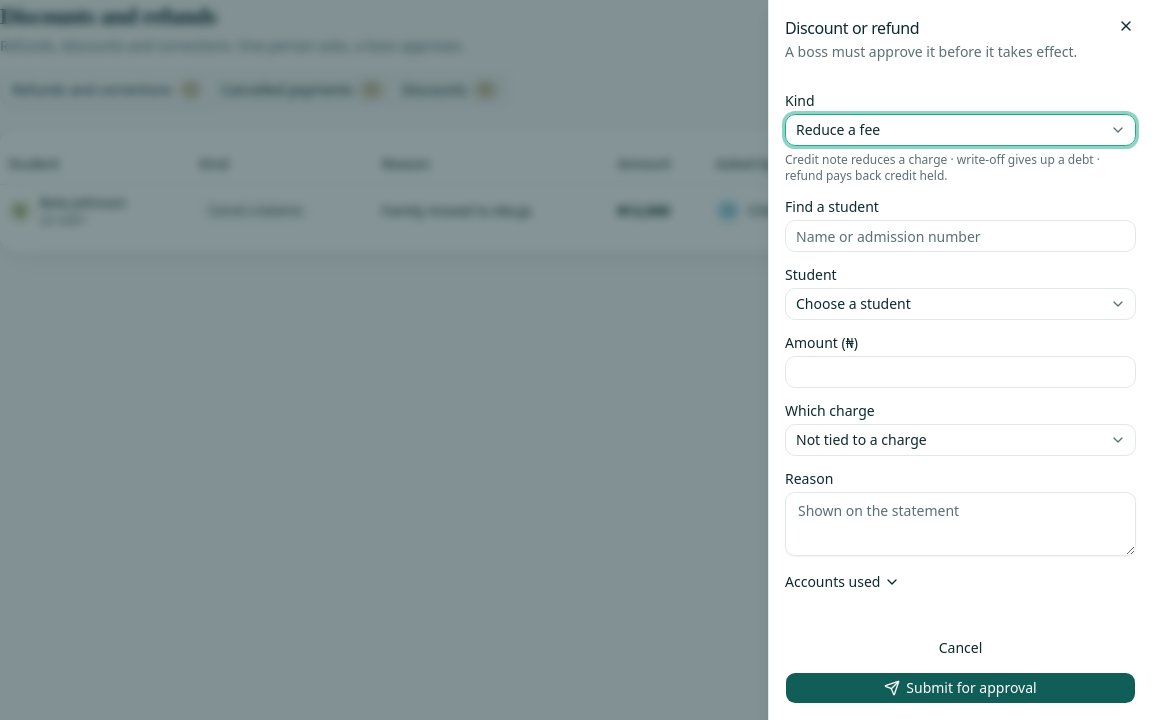
Test: the New request sheet › shows the request, the student and the amount, and sends nothing until confirmed
Select "Ada Okeke · GF-0123" in the dropdown labelled "Student" at (960, 304), box [785,288,1136,320]
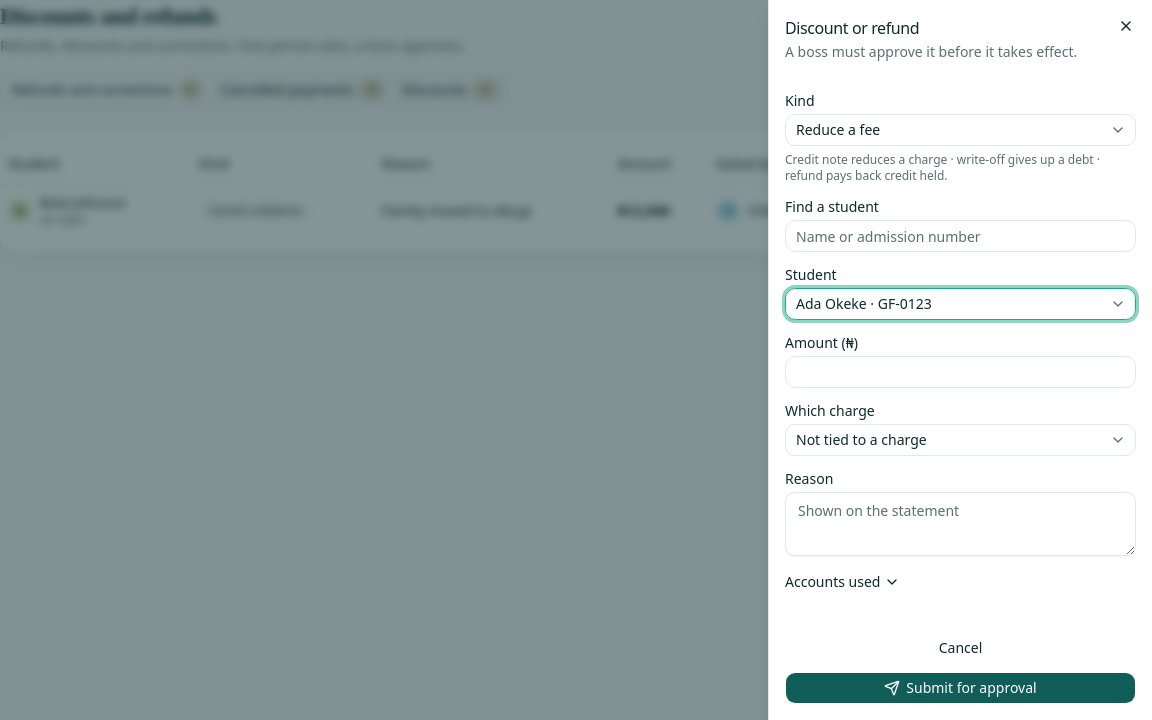
Type "10,000" into the field labelled "Amount (₦)" at (960, 372), box [785,356,1136,388]
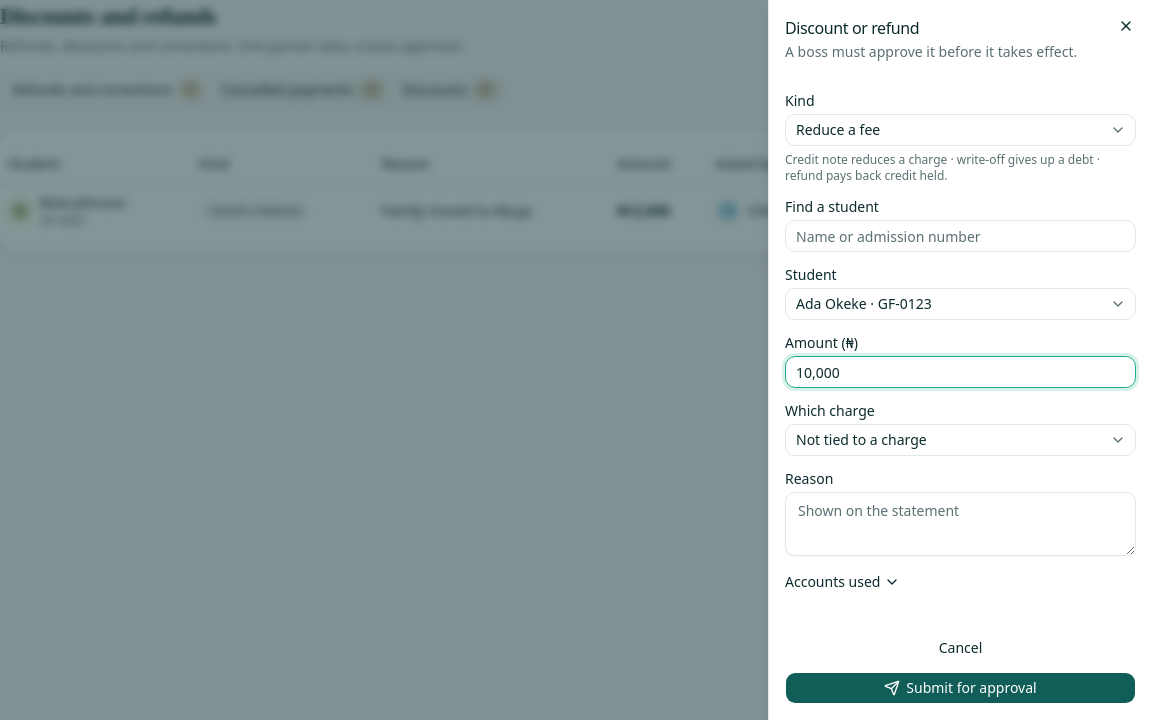
Type "Late enrolment" into the text box labelled "Reason" at (960, 524), box [785,492,1136,556]
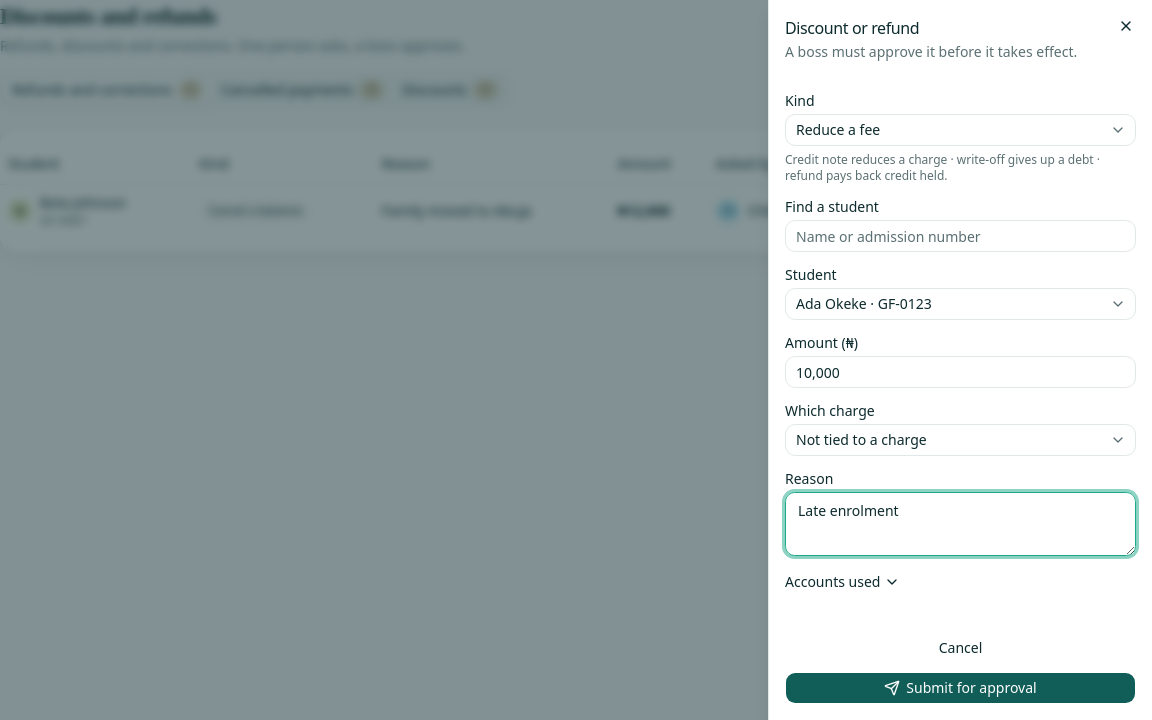
Click the button "Submit for approval" at (960, 688), box [785,672,1136,704]
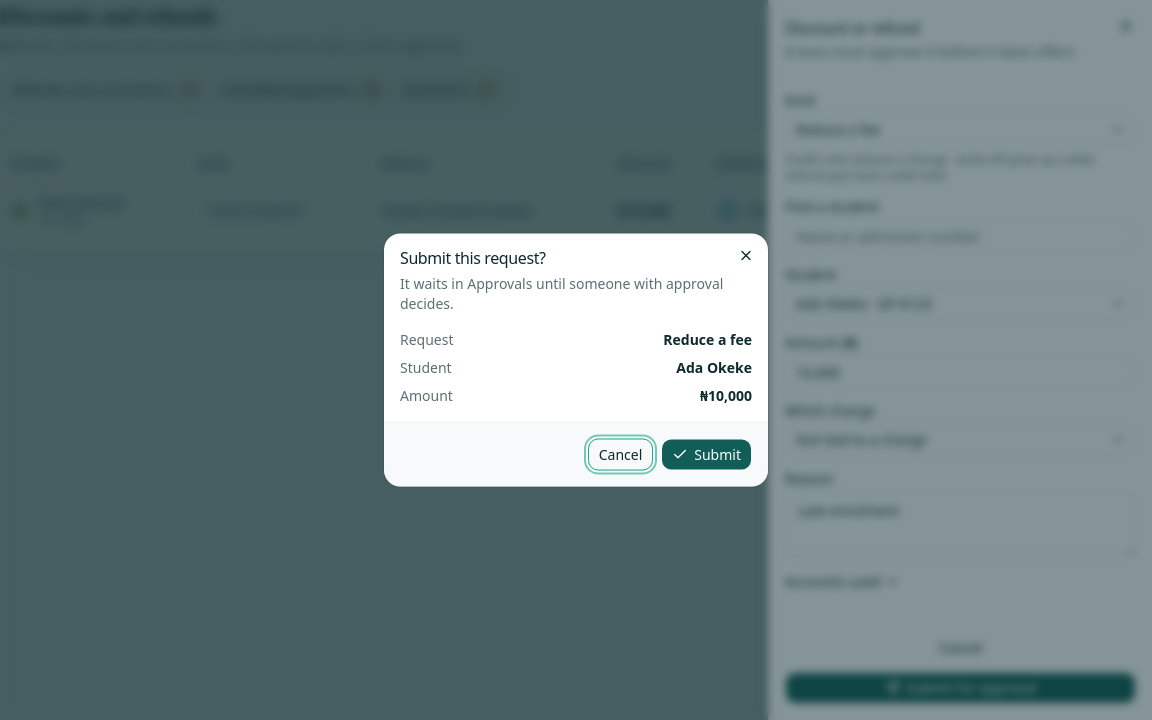
Check: the text "₦10,000" is shown, box [700,386,752,406]
Check: the text "Ada Okeke" is shown, box [676,358,752,378]
Click the button "Cancel" at (620, 454), box [588,438,653,470]
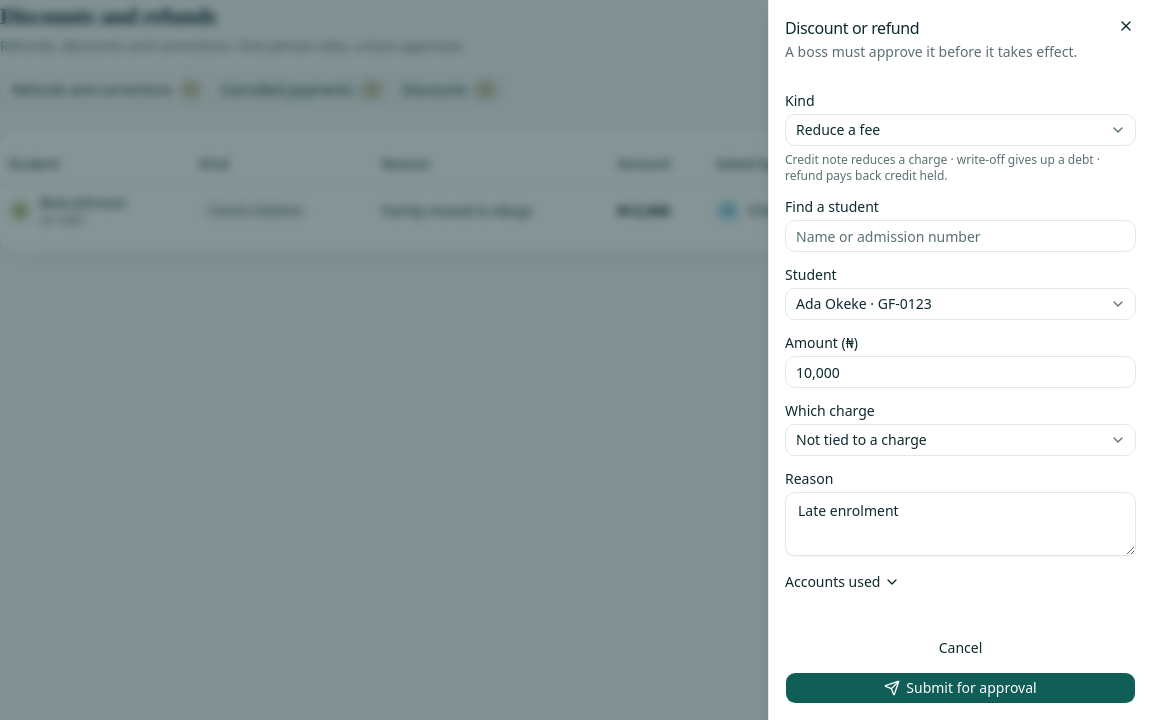
Check: the heading "Submit this request?" is gone
